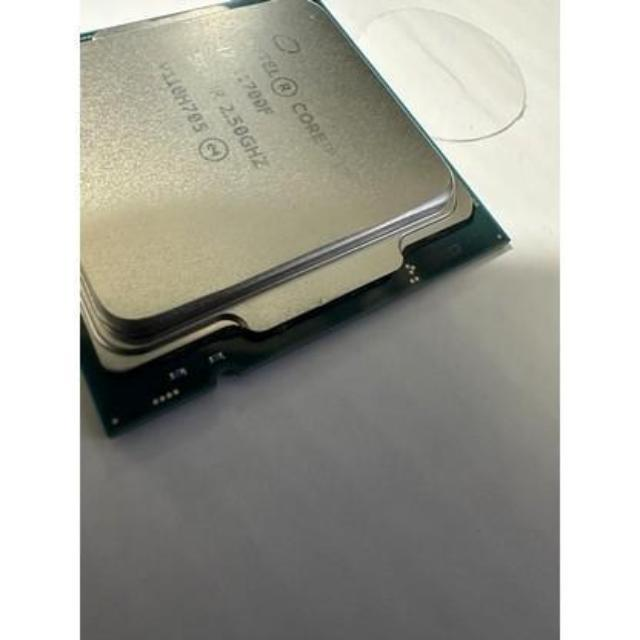CPU: (82, 1, 472, 372)
